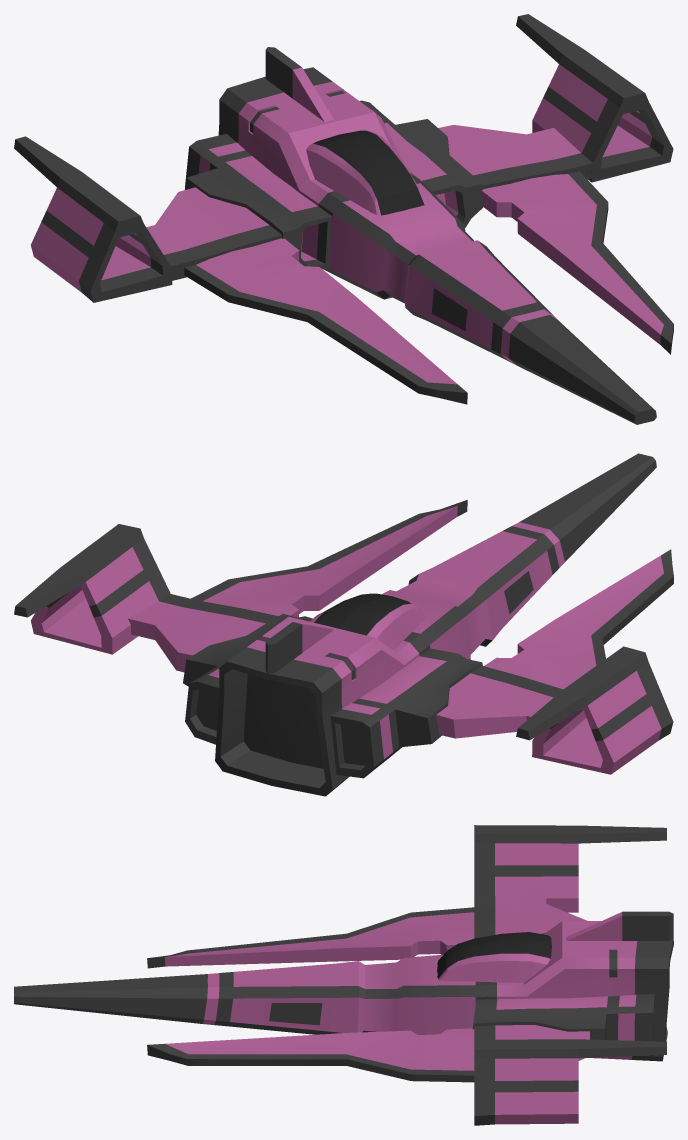
File: SpaceshipB_3.glb
The picture shows the model from 3 angles, top to bottom: view 1: azimuth 30°, elevation 25°; view 2: azimuth 150°, elevation 25°; view 3: azimuth 270°, elevation 25°; orthographic projection. The views are drawn at different scales.
Parts seen in each view (by area): view 1: Spaceship_RaeTheRedPanda; view 2: Spaceship_RaeTheRedPanda; view 3: Spaceship_RaeTheRedPanda.
Boxes of the visible parts, box(x1,y1,x2,y2) form: Spaceship_RaeTheRedPanda: box(14, 14, 673, 424); Spaceship_RaeTheRedPanda: box(14, 453, 673, 796); Spaceship_RaeTheRedPanda: box(14, 825, 673, 1125).
Bounding box in the file's own units: 9.95 × 2.35 × 11.17.
1 material, 1 textured.
